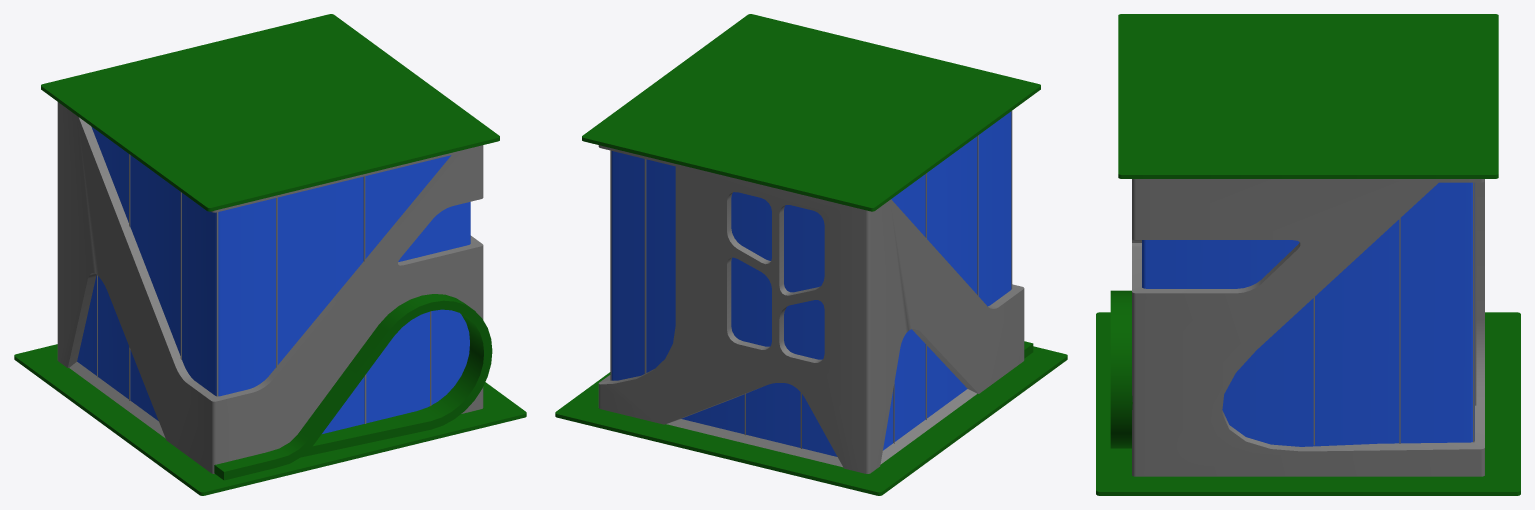
The model's file is SM_B_Simple_01.fbx.
The picture shows the model from 3 angles, left to right: view 1: azimuth 30°, elevation 25°; view 2: azimuth 150°, elevation 25°; view 3: azimuth 270°, elevation 25°; orthographic projection. The views are drawn at different scales.
Visible parts, largest first — view 1: SM_B_Simple_01; view 2: SM_B_Simple_01; view 3: SM_B_Simple_01.
Part boxes in pixels (x1=…): SM_B_Simple_01: x1=14, y1=14, x2=526, y2=495; SM_B_Simple_01: x1=555, y1=14, x2=1067, y2=495; SM_B_Simple_01: x1=1096, y1=14, x2=1520, y2=495.
Size of the model in its own units: 2101 by 1700 by 2100.
